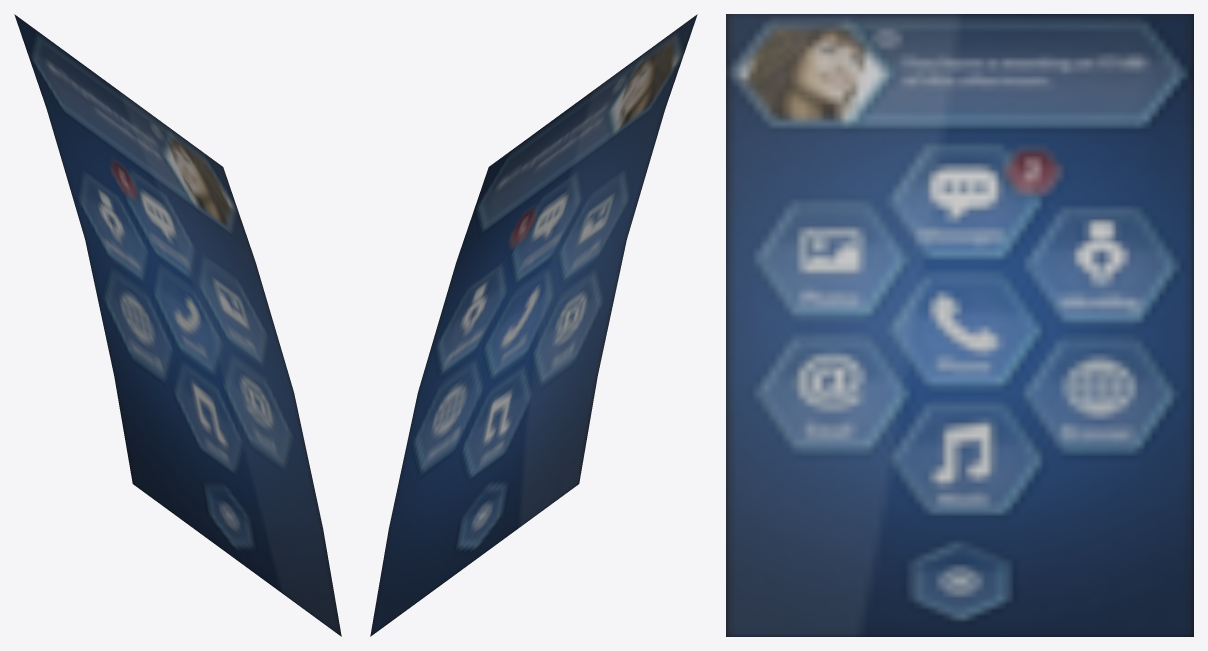
File: kioskScreen.fbx
3 views of the same model, side by side, from view 1: azimuth 30°, elevation 25°; view 2: azimuth 150°, elevation 25°; view 3: azimuth 270°, elevation 25° (orthographic). The views are drawn at different scales.
Visible parts, largest first — view 1: polySurface10; view 2: polySurface10; view 3: polySurface10.
Boxes of the visible parts, <box> form: polySurface10: <box>14,14,341,636</box>; polySurface10: <box>370,14,697,636</box>; polySurface10: <box>726,14,1193,636</box>.
Bounding box in the file's own units: 0.1826 × 0.7345 × 0.5578.
1 material, 1 textured.
